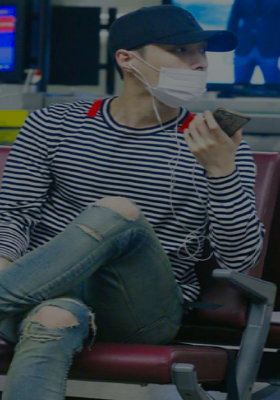mask_weared_incorrect: (131, 43, 209, 108)
